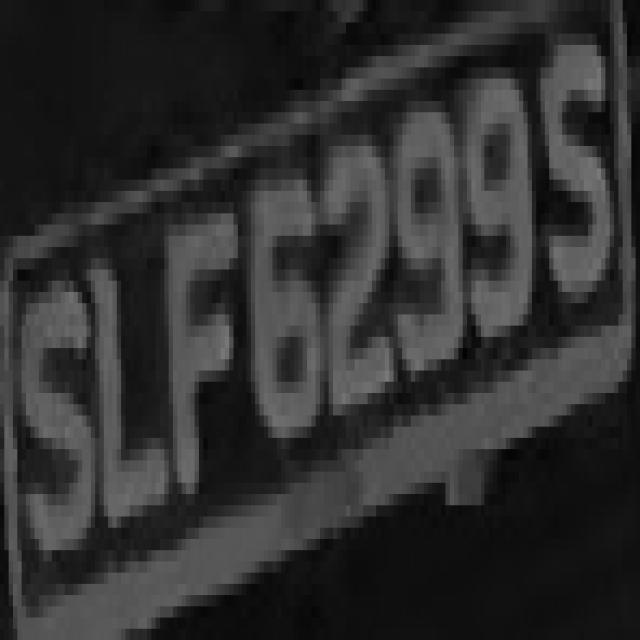2: (320, 101, 398, 438)
6: (246, 123, 333, 460)
9: (380, 56, 462, 404), (454, 67, 532, 393)
F: (160, 180, 238, 505)
L: (86, 214, 168, 516)
S: (9, 235, 95, 572), (532, 23, 623, 314)
